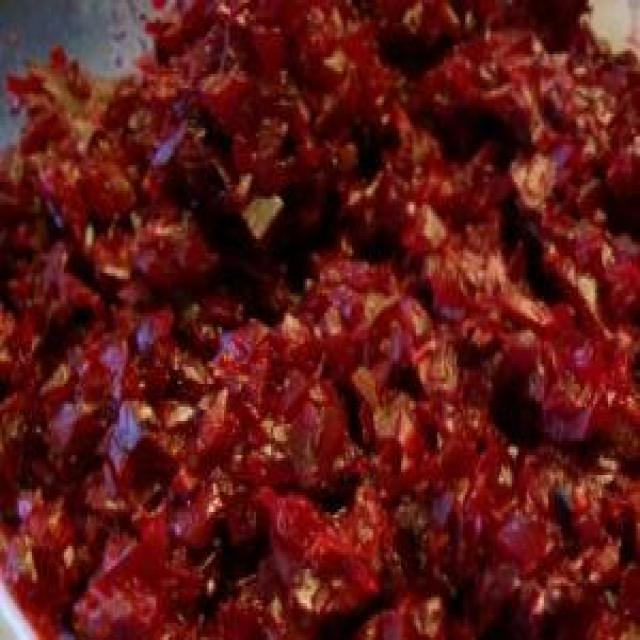healthy coral: (0, 2, 640, 638)
